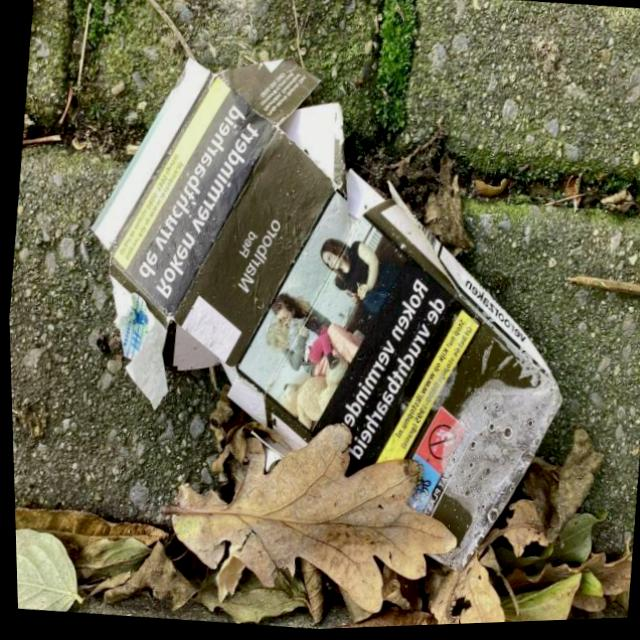Paper: (42, 13, 603, 600)
